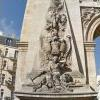Statue: (37, 7, 74, 86)
